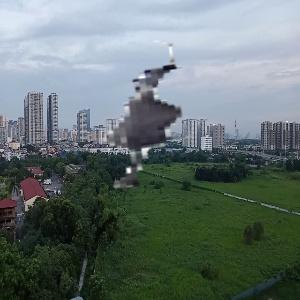drone: (17, 27, 224, 234)
